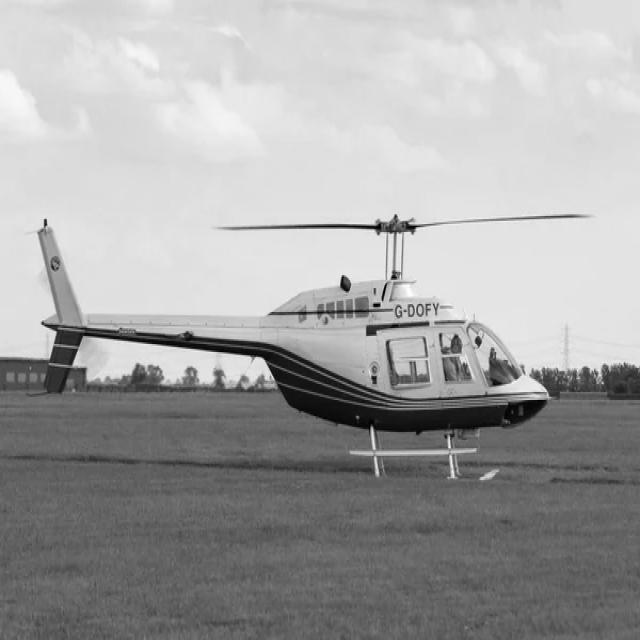Helicopter: (38, 215, 590, 480)
